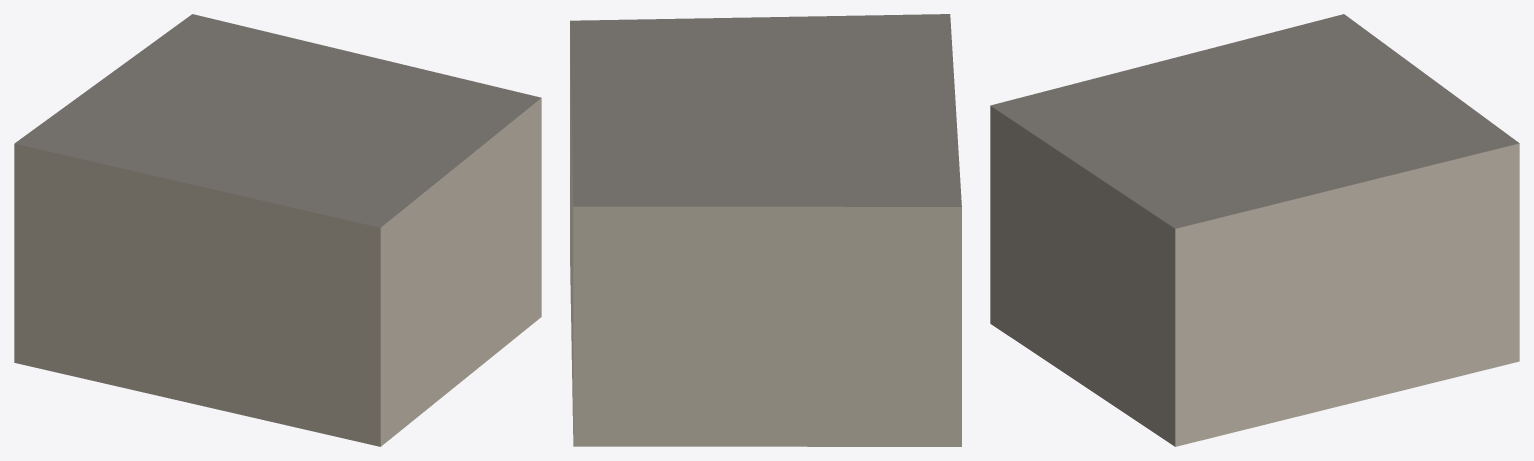
The picture shows the model from 3 angles, left to right: view 1: azimuth 30°, elevation 25°; view 2: azimuth 150°, elevation 25°; view 3: azimuth 270°, elevation 25°; orthographic projection. The views are drawn at different scales.
Visible parts, largest first — view 1: HP-w505633407; view 2: HP-w505633407; view 3: HP-w505633407.
Part boxes in pixels (x1,y1,x2,y2): HP-w505633407: [14, 14, 541, 446]; HP-w505633407: [570, 14, 961, 446]; HP-w505633407: [990, 14, 1519, 446].
Bounding box in the file's own units: 31.7 × 15 × 33.02.
